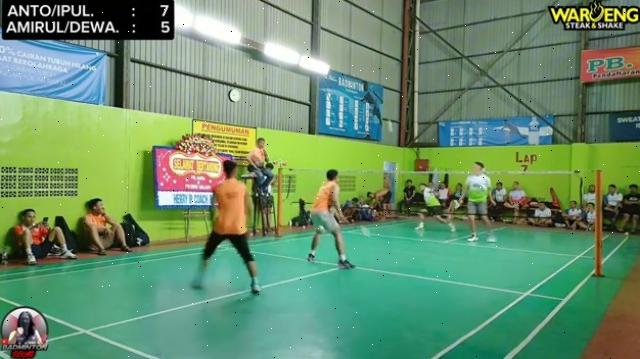Shuttlecock: (384, 116, 396, 136)
